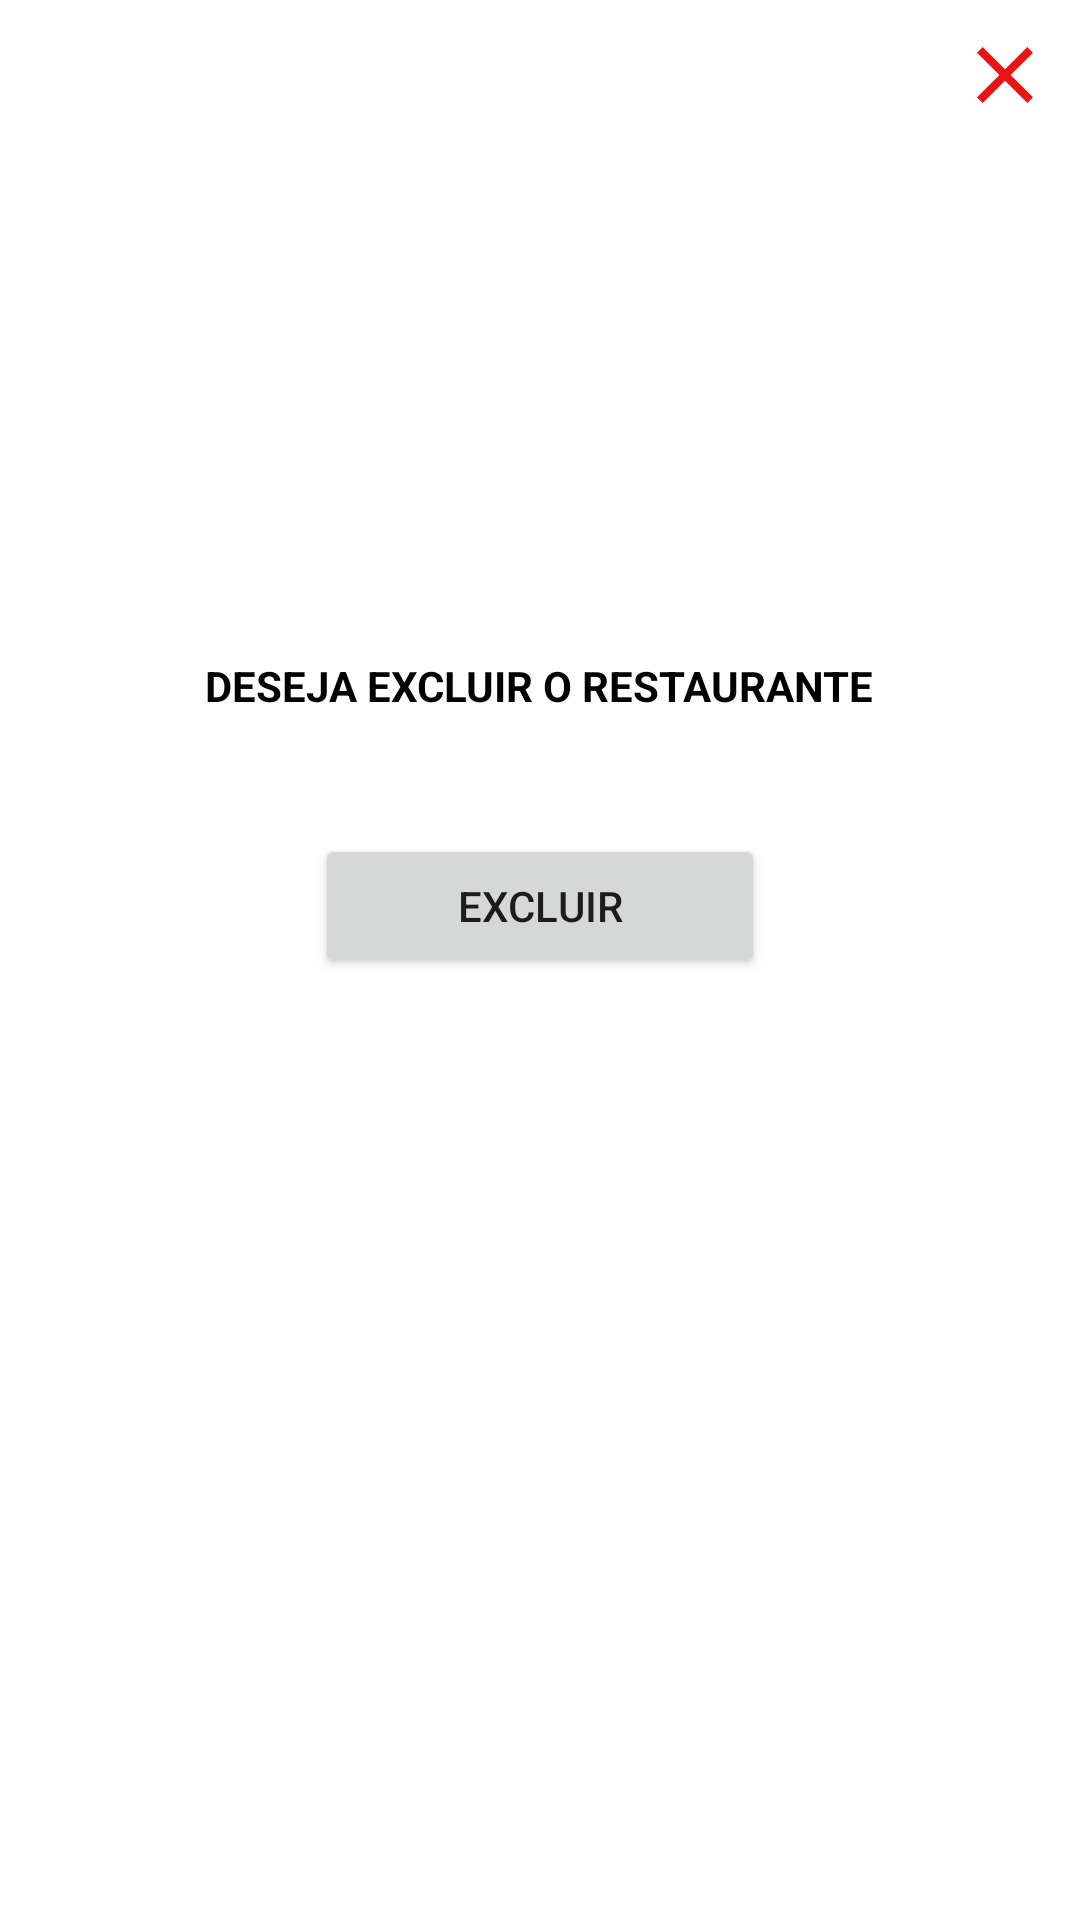

Where to tap for icons on this 1080 x 1920 app screen, as (x,y):
close: (1005,75)
